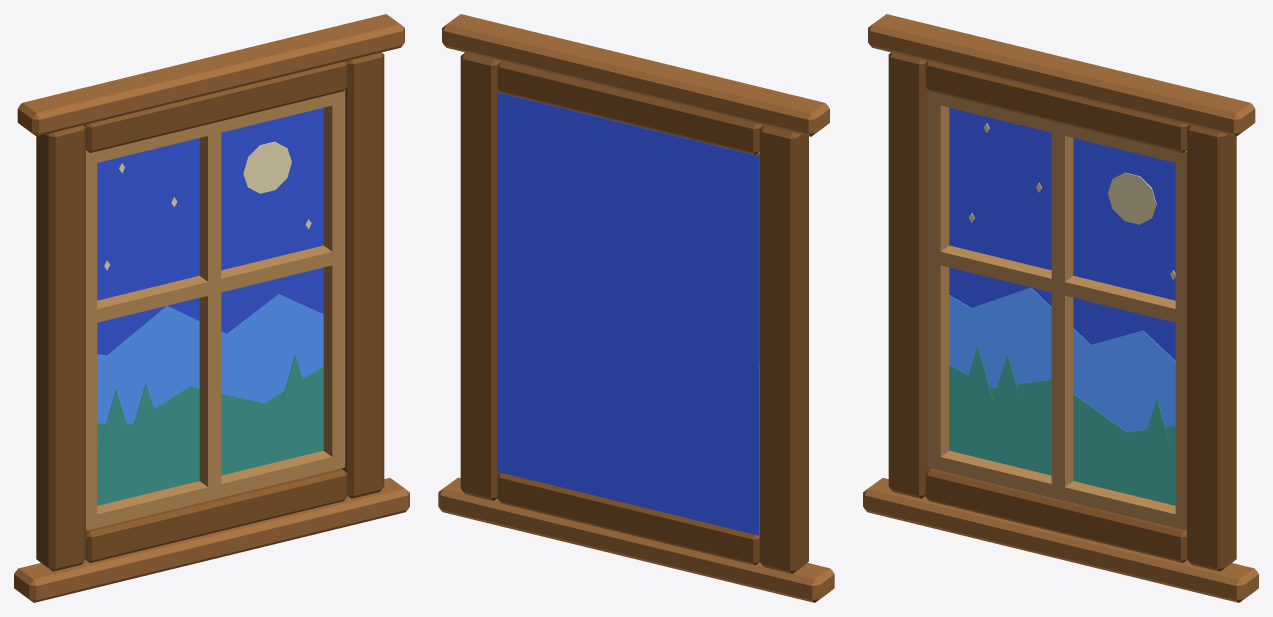
File: Prop_Window.fbx
The picture shows the model from 3 angles, left to right: view 1: azimuth 30°, elevation 25°; view 2: azimuth 150°, elevation 25°; view 3: azimuth 330°, elevation 25°; orthographic projection.
Parts seen in each view (by area): view 1: Prop_Window; view 2: Prop_Window; view 3: Prop_Window.
Boxes of the visible parts, x1=… form: Prop_Window: x1=14, y1=14, x2=409, y2=602; Prop_Window: x1=438, y1=14, x2=834, y2=602; Prop_Window: x1=863, y1=14, x2=1258, y2=602.
Size of the model in its own units: 1.02 by 1.25 by 0.095.
